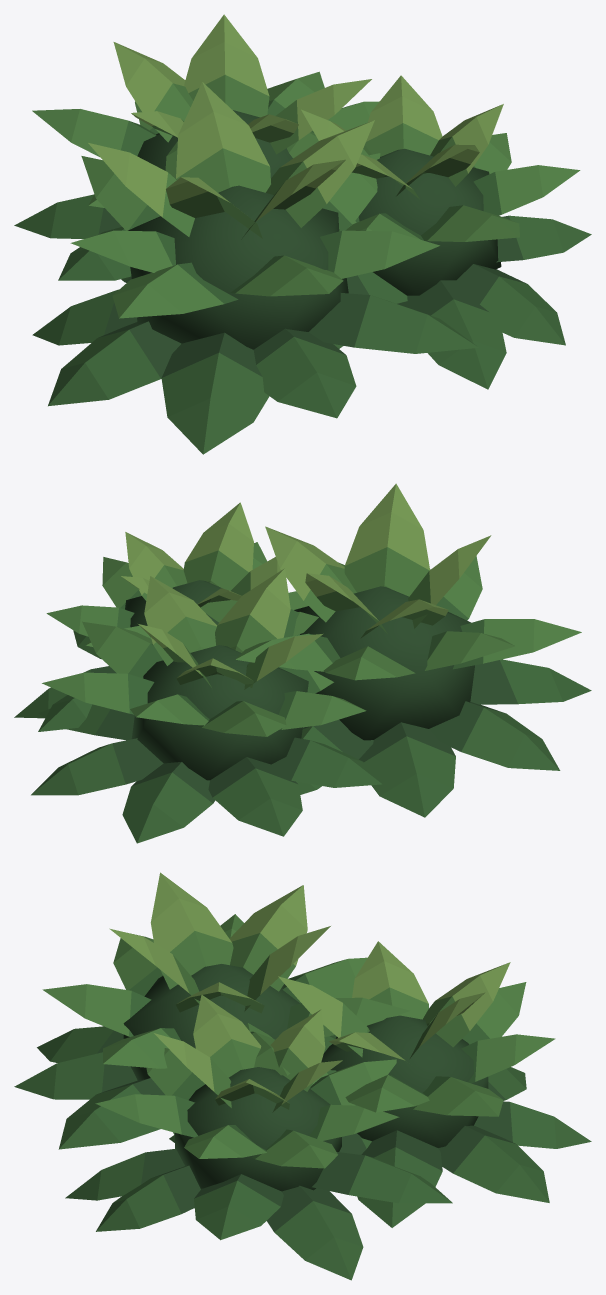
Rendered from bush.glb.
3 renders of one model, top to bottom at view 1: azimuth 30°, elevation 25°; view 2: azimuth 150°, elevation 25°; view 3: azimuth 270°, elevation 25°, orthographic. The views are drawn at different scales.
Parts seen in each view (by area): view 1: bush; view 2: bush; view 3: bush.
Part boxes in pixels (left/top/right/bottom): bush: left=14, top=14, right=591, bottom=454; bush: left=14, top=483, right=591, bottom=843; bush: left=14, top=872, right=591, bottom=1280.
Bounding box in the file's own units: 1.09 × 0.4677 × 1.1.
